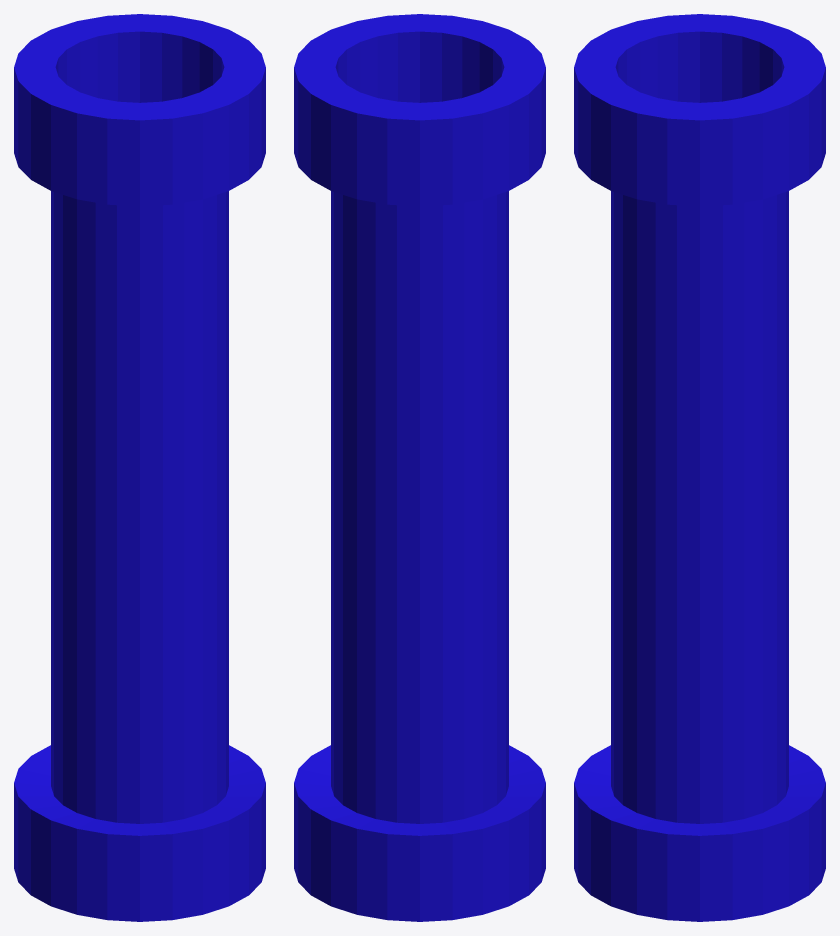
File: BluePipe.glb
The picture shows the model from 3 angles, left to right: view 1: azimuth 30°, elevation 25°; view 2: azimuth 150°, elevation 25°; view 3: azimuth 270°, elevation 25°; orthographic projection.
Parts seen in each view (by area): view 1: BluePipe; view 2: BluePipe; view 3: BluePipe.
Boxes of the visible parts, <box> form: BluePipe: <box>14,14,265,921</box>; BluePipe: <box>294,14,545,921</box>; BluePipe: <box>574,14,825,921</box>.
Size of the model in its own units: 2.83 by 9.95 by 2.83.
